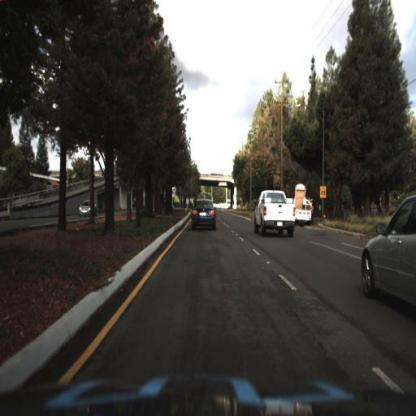car: (358, 192, 416, 325), (248, 182, 302, 248), (291, 184, 315, 230), (190, 195, 218, 231), (73, 195, 98, 221)
truck: (295, 176, 318, 229)
